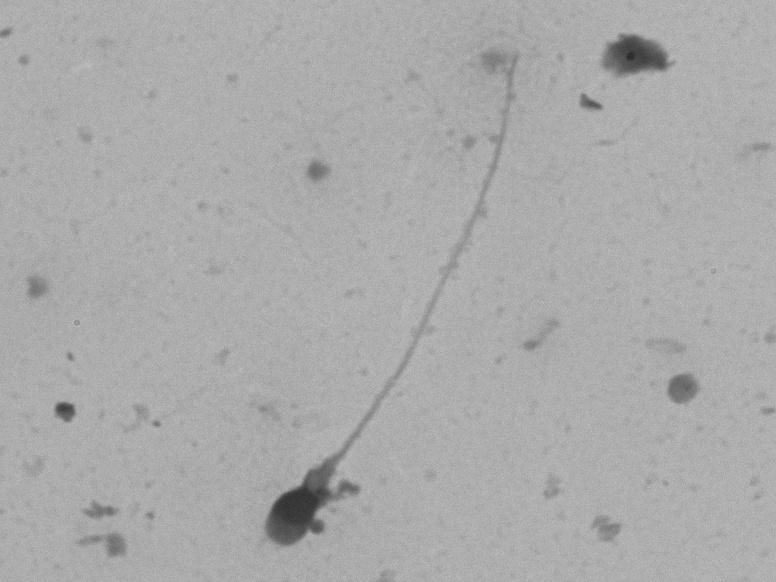Abnormal: (201, 60, 539, 561)
